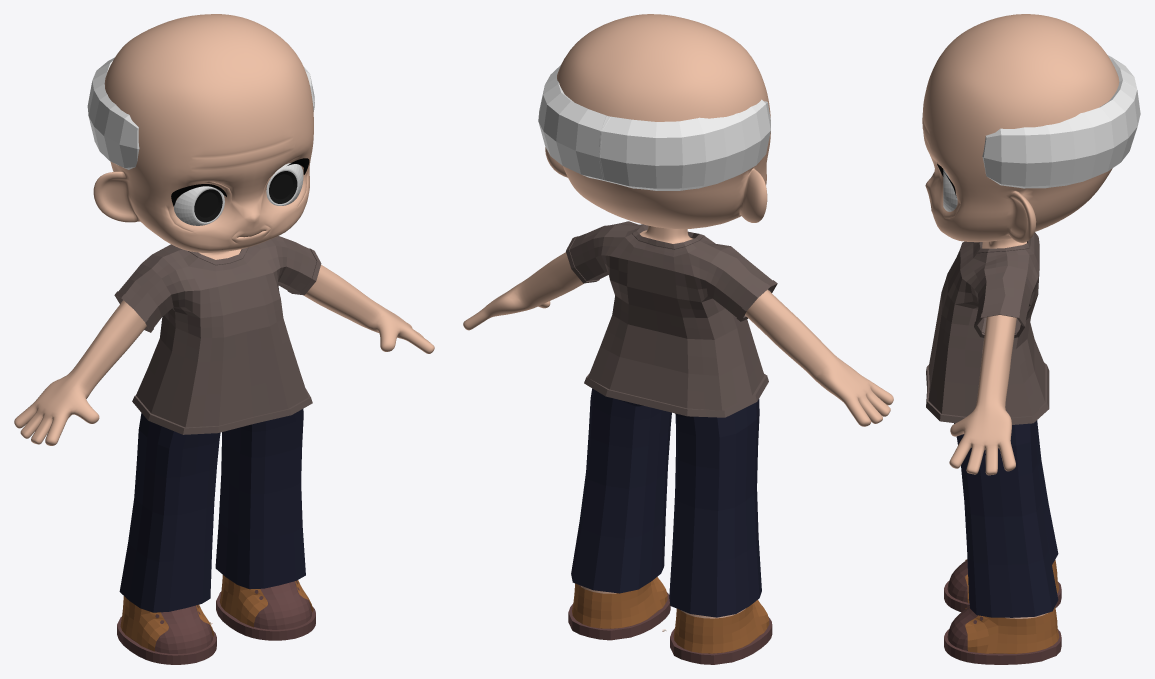
Rendered from Lolo_Charcater_w_clothes_v2.fbx.
3 views of the same model, side by side, from view 1: azimuth 30°, elevation 25°; view 2: azimuth 150°, elevation 25°; view 3: azimuth 270°, elevation 25° (orthographic). The views are drawn at different scales.
Visible parts, largest first — view 1: Head, Pants, Tshirt, Body.002, SHOE.001, Cube, eyes_ball; view 2: Pants, Tshirt, Head, Cube, Body.002, SHOE.001; view 3: Head, Tshirt, Pants, Cube, Body.002, SHOE.001, eyes_ball.
Part boxes in pixels (x1,y1,x2,y2): Head: [93, 14, 313, 252]; Pants: [119, 409, 305, 612]; Tshirt: [114, 236, 321, 434]; Body.002: [14, 249, 434, 445]; SHOE.001: [117, 575, 315, 664]; Cube: [87, 57, 314, 169]; eyes_ball: [174, 163, 303, 225]; Pants: [571, 388, 761, 617]; Tshirt: [566, 221, 777, 417]; Head: [545, 14, 770, 229]; Cube: [538, 65, 770, 190]; Body.002: [463, 225, 893, 618]; SHOE.001: [568, 577, 772, 664]; Head: [922, 14, 1119, 242]; Tshirt: [926, 232, 1049, 424]; Pants: [954, 420, 1058, 617]; Cube: [982, 55, 1140, 188]; Body.002: [949, 238, 1047, 618]; SHOE.001: [944, 559, 1061, 664]; eyes_ball: [943, 169, 957, 211].
Size of the model in its own units: 1056 by 1501 by 499.
